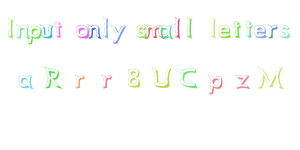8: (126, 67, 142, 88)
C: (179, 67, 197, 88)
I: (4, 16, 20, 40)
M: (256, 65, 284, 90)
R: (44, 66, 63, 88)
U: (151, 66, 172, 88)
a: (17, 73, 34, 89), (158, 23, 173, 40)
e: (217, 24, 231, 39), (254, 23, 267, 39)
l: (207, 15, 218, 39), (185, 15, 195, 40), (172, 16, 182, 39), (101, 16, 110, 39)
m: (144, 24, 163, 40)
n: (87, 23, 102, 40), (15, 23, 29, 39)
o: (75, 24, 90, 40)
p: (26, 23, 43, 46), (207, 73, 223, 96)
r: (100, 73, 113, 88), (74, 73, 85, 89), (267, 24, 278, 39)
s: (135, 23, 148, 40), (278, 23, 291, 39)
t: (53, 19, 64, 38), (231, 19, 242, 38), (244, 19, 253, 39)
u: (38, 22, 54, 39)
y: (109, 23, 127, 44)
z: (235, 73, 251, 90)
